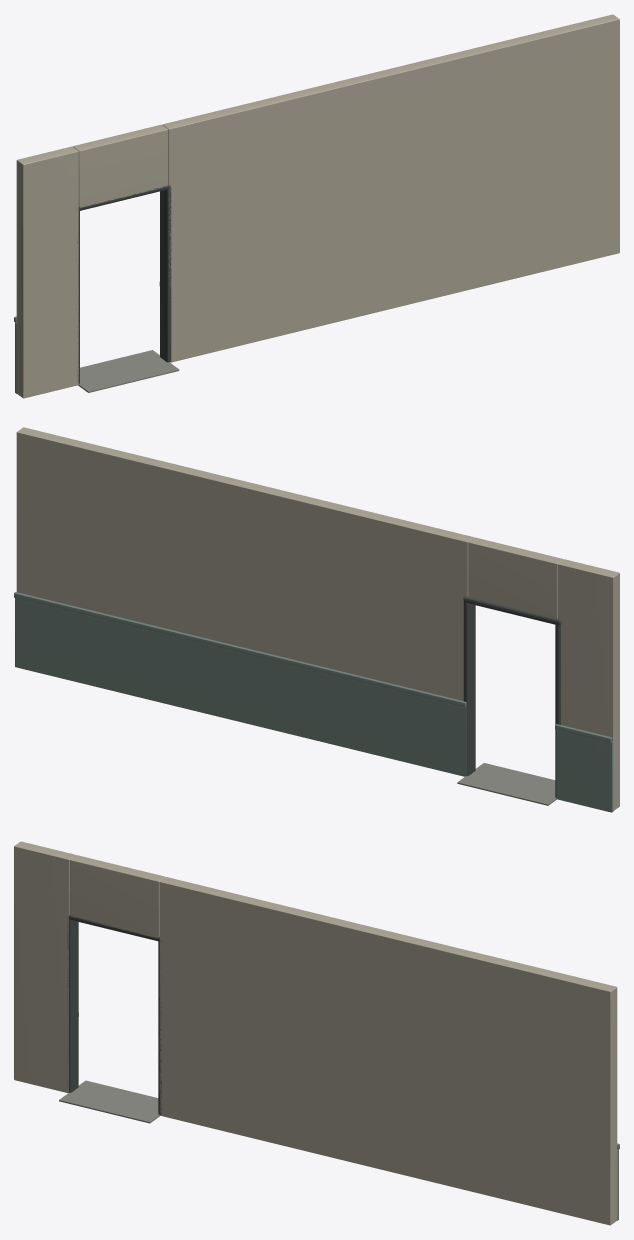
File: Medical_RearLining62.fbx
The picture shows the model from 3 angles, top to bottom: view 1: azimuth 30°, elevation 25°; view 2: azimuth 150°, elevation 25°; view 3: azimuth 330°, elevation 25°; orthographic projection.
Parts seen in each view (by area): view 1: Medical_RearLining62; view 2: Medical_RearLining62; view 3: Medical_RearLining62.
Part boxes in pixels (x1,y1,x2,y2): Medical_RearLining62: (14,14,619,398); Medical_RearLining62: (14,427,619,812); Medical_RearLining62: (14,841,619,1225).
Size of the model in its own units: 800 by 301 by 62.
